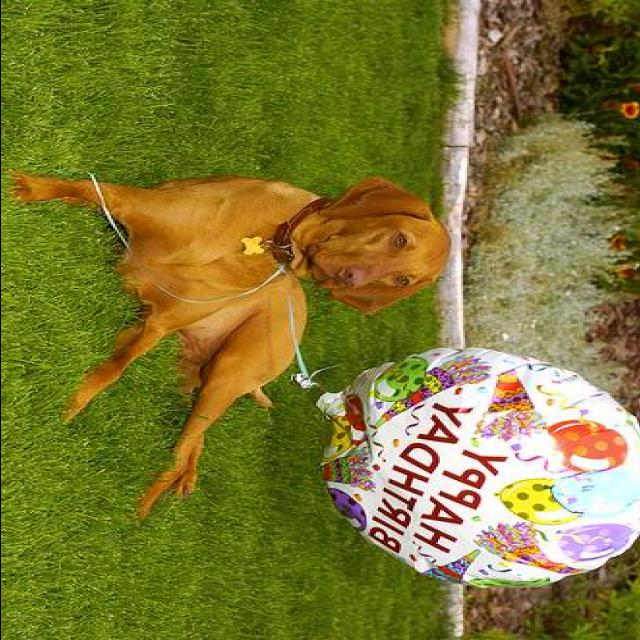vizsla: (12, 173, 454, 523)
